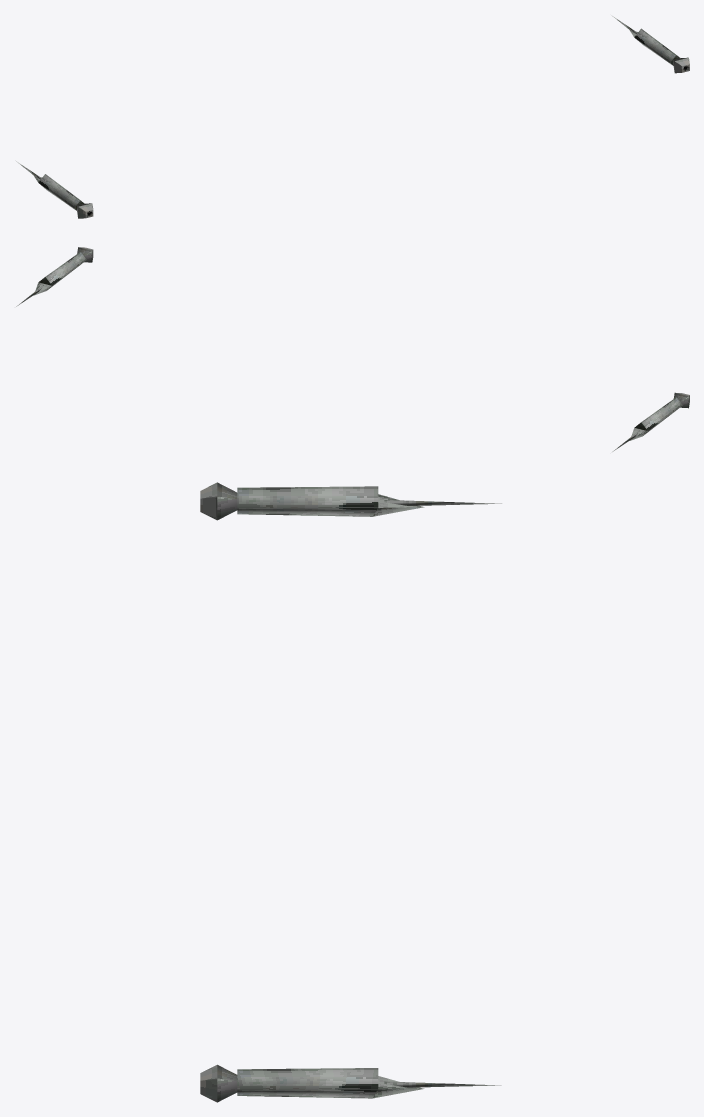
File: hutt_fighter_heavy_weapon2_s03_l3.fbx
The picture shows the model from 3 angles, top to bottom: view 1: azimuth 30°, elevation 25°; view 2: azimuth 150°, elevation 25°; view 3: azimuth 270°, elevation 25°; orthographic projection. The views are drawn at different scales.
Parts seen in each view (by area): view 1: mesh_node; view 2: mesh_node; view 3: mesh_node.
Part boxes in pixels (x1,y1,x2,y2): mesh_node: [15, 15, 689, 218]; mesh_node: [16, 247, 689, 451]; mesh_node: [200, 482, 501, 1102].
Size of the model in its own units: 26.55 by 0.6347 by 5.7.
